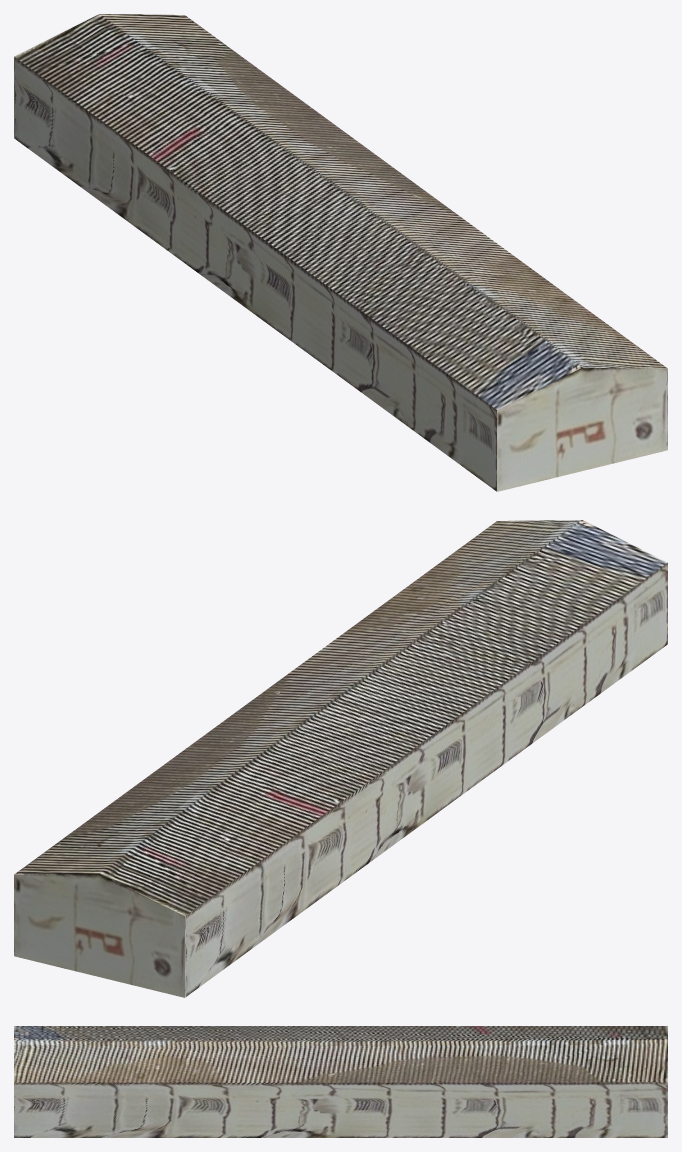
Rendered from Techni_zrif1.dae.
3 views of the same model, one above another, from view 1: azimuth 30°, elevation 25°; view 2: azimuth 150°, elevation 25°; view 3: azimuth 270°, elevation 25° (orthographic). The views are drawn at different scales.
Visible parts, largest first — view 1: group_0 (×4); view 2: group_0 (×4); view 3: group_0 (×3).
Part boxes in pixels (box(x1,y1,x2,y2)): group_0 (×4): box(14, 14, 667, 491); group_0 (×4): box(14, 520, 667, 997); group_0 (×3): box(14, 1026, 667, 1137).
Bounding box in the file's own units: 308 × 1508 × 178.
4 materials, 4 textured.
